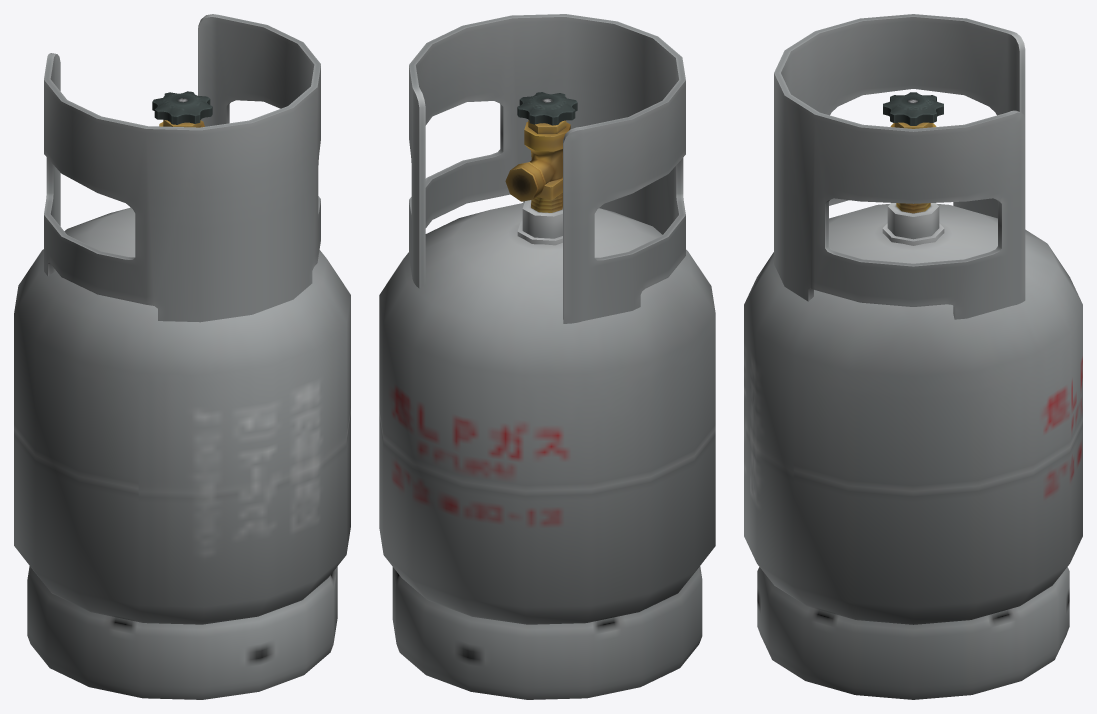
File: jsf_GasContainer05kg_01.fbx
3 renders of one model, left to right at view 1: azimuth 30°, elevation 25°; view 2: azimuth 150°, elevation 25°; view 3: azimuth 270°, elevation 25°, orthographic.
Visible parts, largest first — view 1: GasContainer05kg_01, GasValve; view 2: GasContainer05kg_01, GasValve; view 3: GasContainer05kg_01, GasValve.
Part boxes in pixels (box(x1,y1,x2,y2)): GasContainer05kg_01: box(14, 14, 350, 699); GasValve: box(152, 91, 212, 124); GasContainer05kg_01: box(379, 14, 715, 699); GasValve: box(517, 92, 577, 125); GasContainer05kg_01: box(744, 14, 1082, 699); GasValve: box(883, 92, 943, 125).
Bounding box in the file's own units: 24.33 × 44.54 × 24.33.
